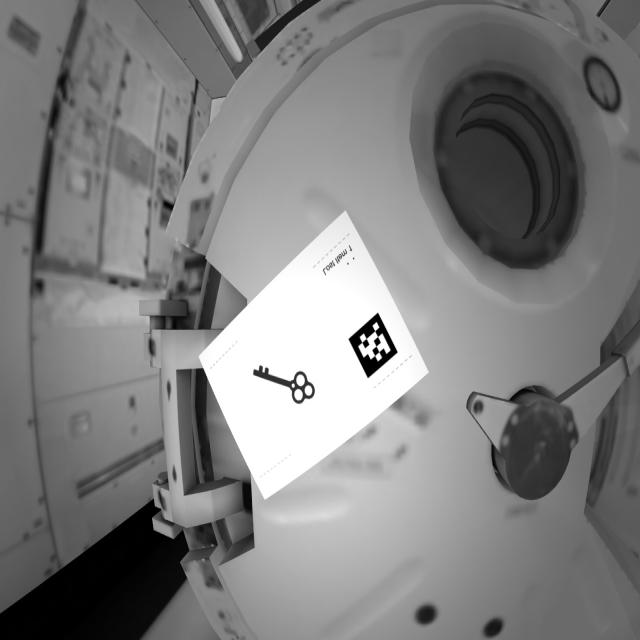key: (240, 350, 319, 408)
